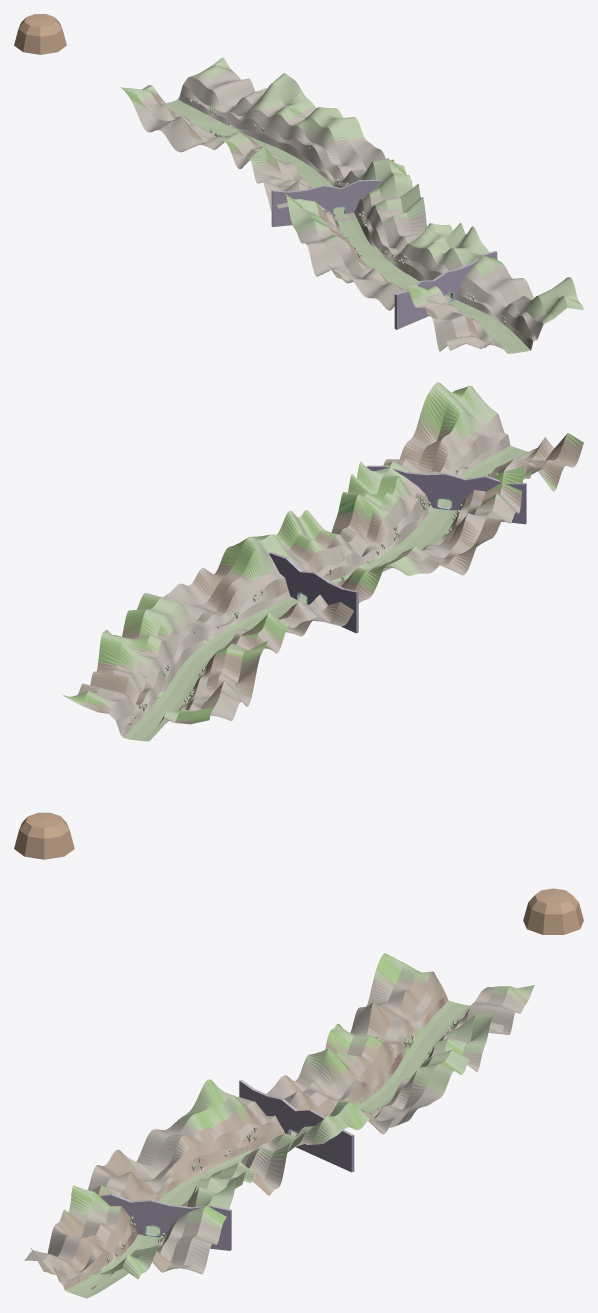
File: level_1.glb
3 views of the same model, one above another, from view 1: azimuth 30°, elevation 25°; view 2: azimuth 150°, elevation 25°; view 3: azimuth 330°, elevation 25° (orthographic). The views are drawn at different scales.
Visible parts, largest first — view 1: terrain_4, terrain_6, terrain_0, terrain_1, terrain_3, terrain_8, terrain_7, terrain_9, terrain_2, wall_1, terrain_5, wall_0 (+1 smaller); view 2: terrain_0, terrain_2, terrain_8, terrain_7, terrain_5, terrain_3, terrain_6, terrain_4, terrain_9, terrain_1, wall_0, wall_1 (+1 smaller); view 3: terrain_1, terrain_4, terrain_6, terrain_9, terrain_3, terrain_7, terrain_0, terrain_8, terrain_2, wall_1, terrain_5, wall_0 (+1 smaller).
Boxes of the visible parts, <box> form: terrain_4: <box>280,181,426,250</box>; terrain_6: <box>241,117,385,188</box>; terrain_0: <box>431,277,583,353</box>; terrain_1: <box>404,255,533,326</box>; terrain_3: <box>302,223,452,283</box>; terrain_8: <box>149,73,298,152</box>; terrain_7: <box>212,85,351,169</box>; terrain_9: <box>120,57,254,132</box>; terrain_2: <box>339,222,489,310</box>; wall_1: <box>271,179,411,226</box>; terrain_5: <box>263,158,412,221</box>; wall_0: <box>394,251,497,329</box>; terrain_0: <box>406,382,583,491</box>; terrain_2: <box>348,461,521,544</box>; terrain_8: <box>90,630,258,718</box>; terrain_7: <box>113,596,279,683</box>; terrain_5: <box>199,534,368,626</box>; terrain_3: <box>331,491,492,575</box>; terrain_6: <box>142,571,313,651</box>; terrain_4: <box>276,510,432,597</box>; terrain_9: <box>63,683,233,741</box>; terrain_1: <box>379,444,541,510</box>; wall_0: <box>366,465,526,524</box>; wall_1: <box>269,552,358,633</box>; terrain_1: <box>56,1185,226,1274</box>; terrain_4: <box>165,1079,334,1180</box>; terrain_6: <box>281,1048,454,1127</box>; terrain_9: <box>367,953,534,1029</box>; terrain_3: <box>105,1129,281,1201</box>; terrain_7: <box>325,1023,489,1096</box>; terrain_0: <box>23,1224,191,1298</box>; terrain_8: <box>340,1001,511,1063</box>; terrain_2: <box>87,1165,250,1234</box>; wall_1: <box>239,1079,354,1172</box>; terrain_5: <box>237,1077,394,1146</box>; wall_0: <box>71,1193,231,1250</box>.
Size of the model in its own units: 623 by 228 by 3117.
